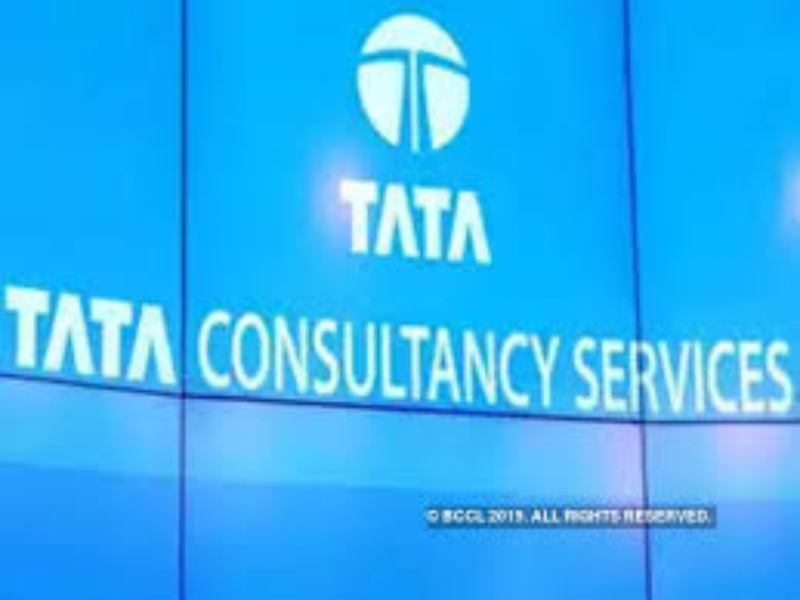tcs: (354, 10, 472, 153)
